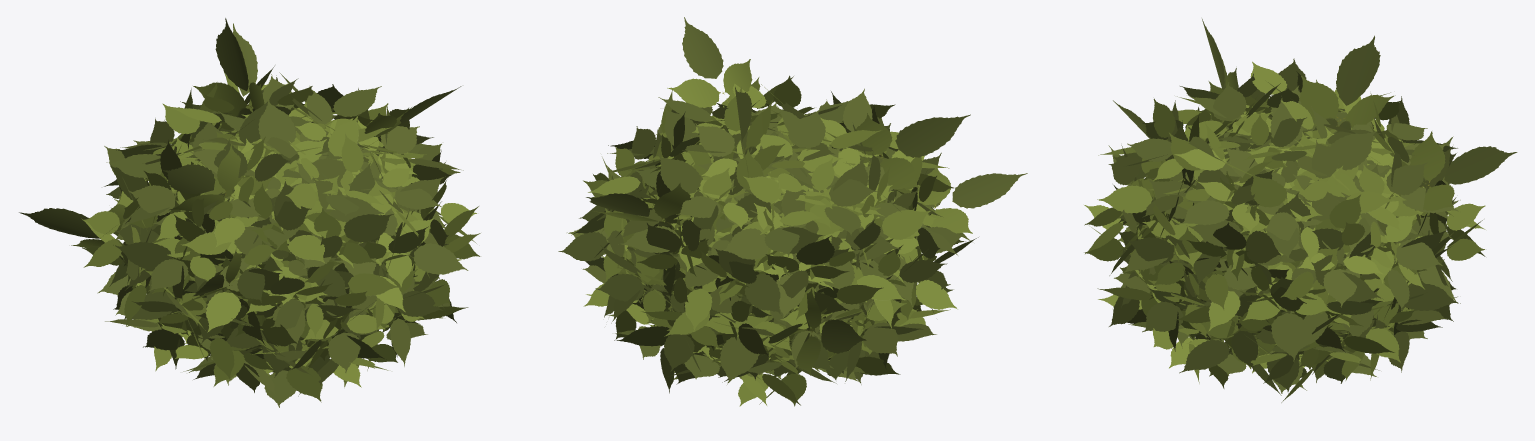
Rendered from Blackberry_Bush_2a.fbx.
The picture shows the model from 3 angles, left to right: view 1: azimuth 30°, elevation 25°; view 2: azimuth 150°, elevation 25°; view 3: azimuth 270°, elevation 25°; orthographic projection.
Visible parts, largest first — view 1: Blackberry_Bush_2a; view 2: Blackberry_Bush_2a; view 3: Blackberry_Bush_2a.
Part boxes in pixels (x1,y1,x2,y2): Blackberry_Bush_2a: [19, 18, 480, 407]; Blackberry_Bush_2a: [558, 17, 1027, 406]; Blackberry_Bush_2a: [1084, 19, 1517, 402].
Bounding box in the file's own units: 117 × 101 × 117.
Materials: 1 (1 with a texture image).
